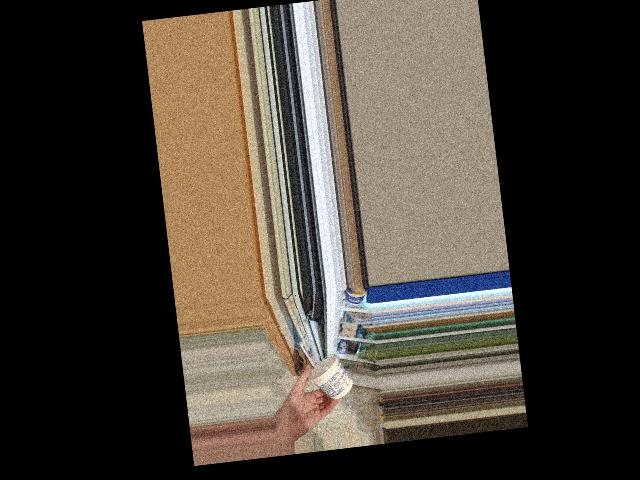cotage: (302, 355, 350, 404)
